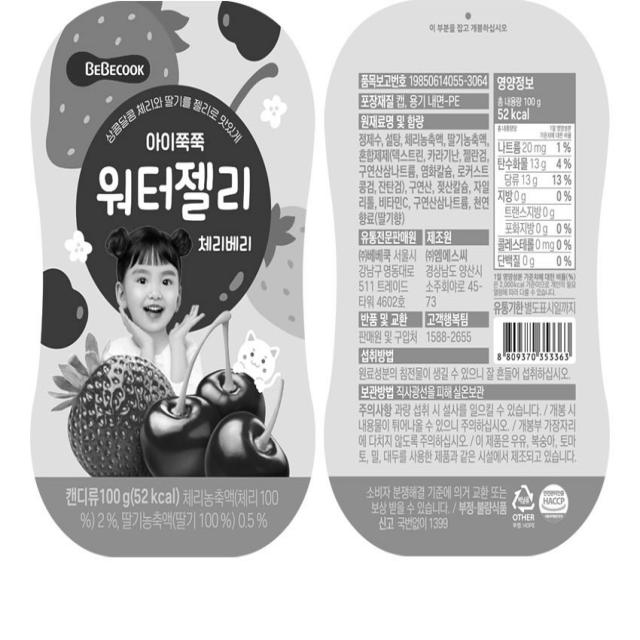Nutrition Label: (487, 62, 589, 304)
